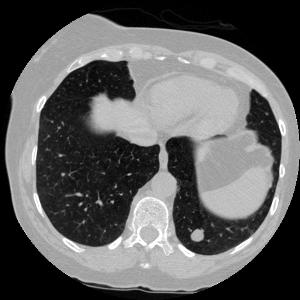nodule: (191, 230, 203, 242)
